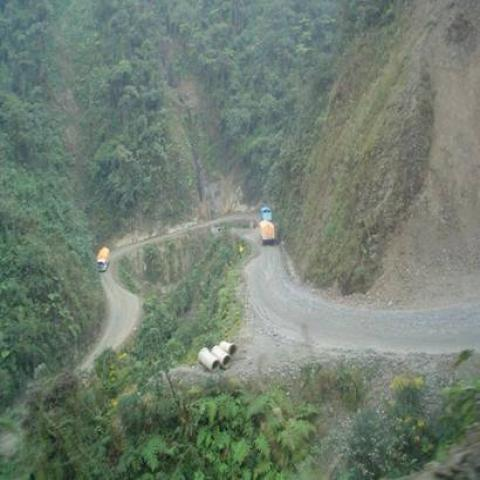truck: (259, 219, 275, 245), (97, 246, 111, 272), (261, 206, 272, 220)
